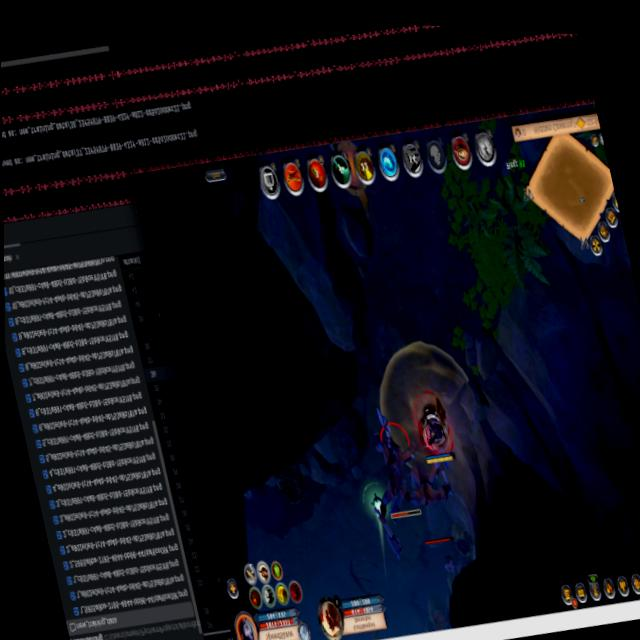ore: (360, 402, 431, 533), (391, 441, 470, 556)
red: (408, 386, 460, 472)
